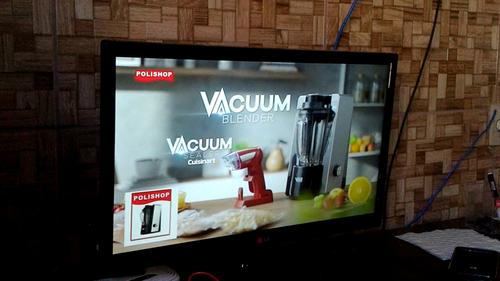Polishop #1: (124, 187, 178, 246)
